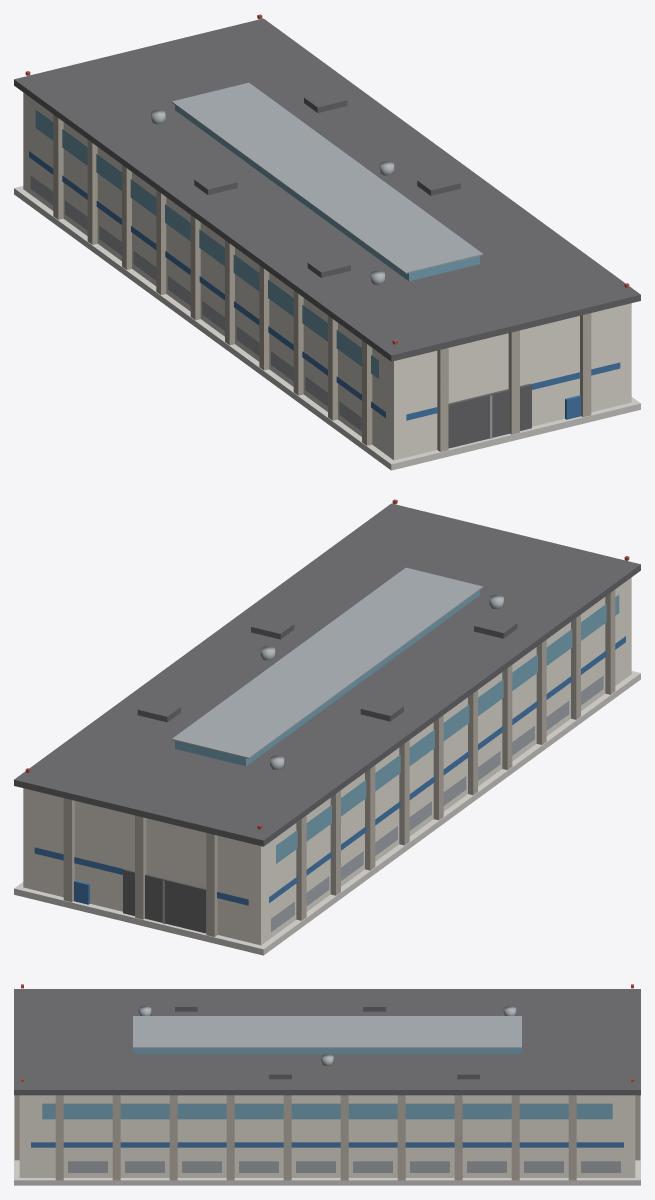
Rendered from turbine_hall_short.glb.
The picture shows the model from 3 angles, top to bottom: view 1: azimuth 30°, elevation 25°; view 2: azimuth 150°, elevation 25°; view 3: azimuth 270°, elevation 25°; orthographic projection. The views are drawn at different scales.
Parts seen in each view (by area): view 1: Merged_RoofDark, turbine_hall, Merged_PropsMetal, Merged_FacadeAccent, Merged_FacadeGlass, turbine_plinth, Merged_CityAccentBlue; view 2: Merged_RoofDark, turbine_hall, Merged_PropsMetal, Merged_FacadeAccent, Merged_FacadeGlass, turbine_plinth, Merged_CityAccentBlue; view 3: Merged_RoofDark, turbine_hall, Merged_PropsMetal, Merged_FacadeGlass, Merged_FacadeAccent, turbine_plinth, Merged_CityAccentBlue.
Boxes of the visible parts, x1,y1,x2,y2 form: Merged_RoofDark: (14, 18, 640, 448); turbine_hall: (23, 92, 631, 460); Merged_PropsMetal: (30, 82, 492, 438); Merged_FacadeAccent: (53, 114, 591, 451); Merged_FacadeGlass: (35, 105, 479, 378); turbine_plinth: (14, 186, 640, 470); Merged_CityAccentBlue: (29, 151, 620, 420); Merged_RoofDark: (14, 503, 640, 933); turbine_hall: (23, 577, 631, 945); Merged_PropsMetal: (162, 567, 603, 932); Merged_FacadeAccent: (63, 589, 615, 936); Merged_FacadeGlass: (175, 590, 619, 863); turbine_plinth: (14, 671, 640, 955); Merged_CityAccentBlue: (34, 636, 625, 905); Merged_RoofDark: (14, 989, 640, 1095); turbine_hall: (19, 1095, 635, 1177); Merged_PropsMetal: (68, 1006, 620, 1172); Merged_FacadeGlass: (42, 1048, 612, 1119); Merged_FacadeAccent: (14, 1095, 640, 1180); turbine_plinth: (14, 1095, 640, 1185); Merged_CityAccentBlue: (31, 1142, 623, 1147).
Bounding box in the file's own units: 42 × 20 × 110.
